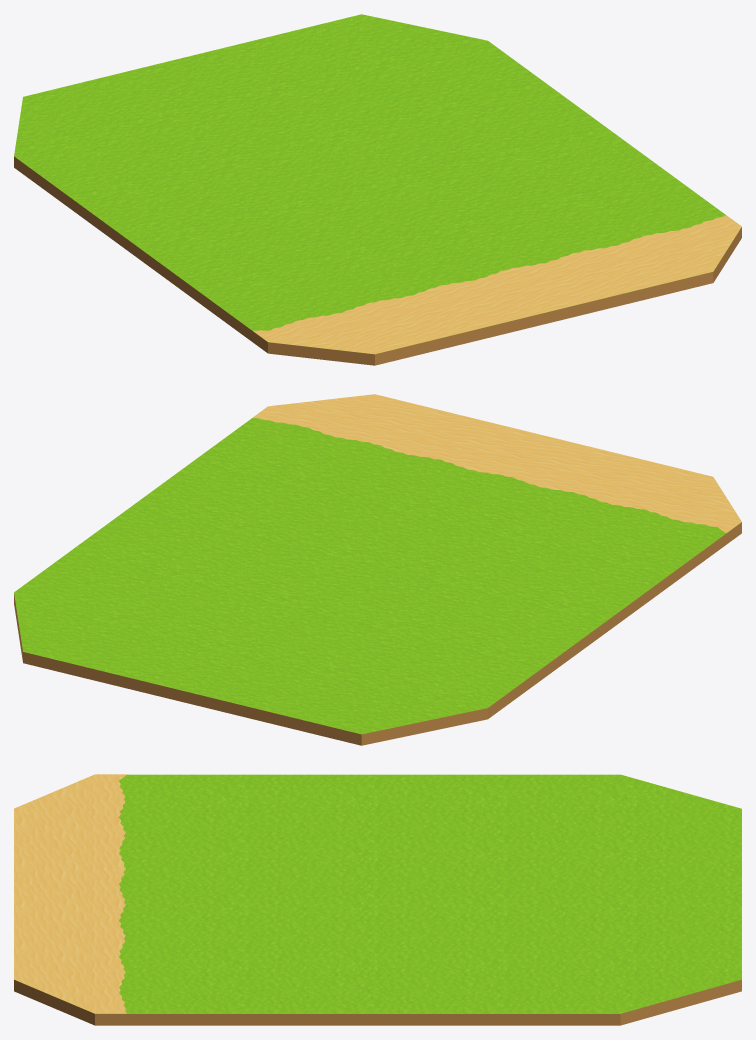
Rendered from surface-DuUNfgCt.glb.
The picture shows the model from 3 angles, top to bottom: view 1: azimuth 30°, elevation 25°; view 2: azimuth 150°, elevation 25°; view 3: azimuth 270°, elevation 25°; orthographic projection. The views are drawn at different scales.
Visible parts, largest first — view 1: FLV5_Surface, FLC_Regions_01; view 2: FLV5_Surface, FLC_Regions_01; view 3: FLV5_Surface, FLC_Regions_01.
Part boxes in pixels (<box>): FLV5_Surface: <box>14,14,741,365</box>; FLC_Regions_01: <box>253,215,741,354</box>; FLV5_Surface: <box>14,418,741,745</box>; FLC_Regions_01: <box>253,394,741,533</box>; FLV5_Surface: <box>14,774,741,1025</box>; FLC_Regions_01: <box>14,774,126,1013</box>.
Size of the model in its own units: 14 by 0.324 by 18.
Materials: 3 (2 with a texture image).
